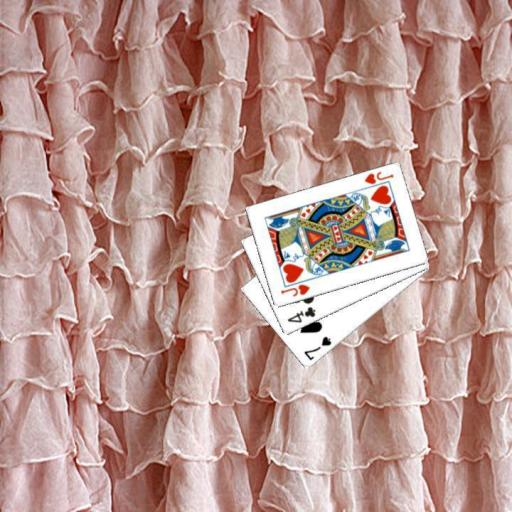card-corner: (301, 333, 333, 362), (284, 304, 317, 324), (361, 168, 395, 186), (277, 282, 311, 298)
